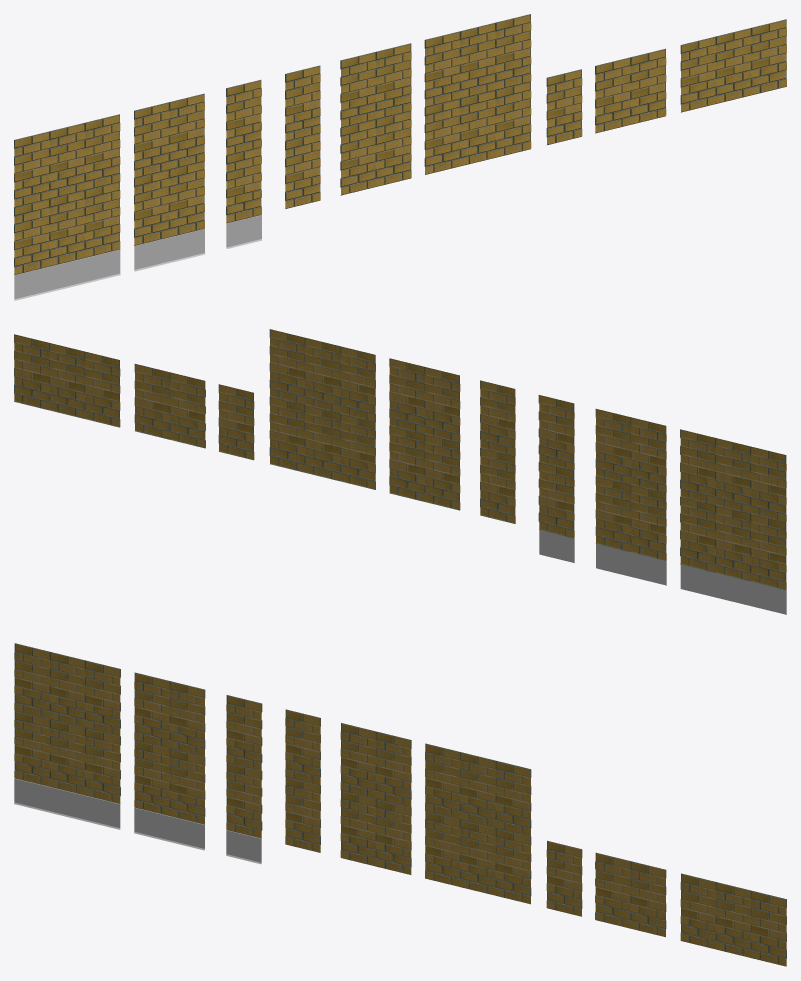
File: ParedeShrine.fbx
3 views of the same model, one above another, from view 1: azimuth 30°, elevation 25°; view 2: azimuth 150°, elevation 25°; view 3: azimuth 330°, elevation 25° (orthographic).
Parts seen in each view (by area): view 1: Plano.005, Plano.007, Plano.004, Plano.006, Plano.009, Plano.003, Plano.001, Plano.008, Plano.002; view 2: Plano.005, Plano.007, Plano.004, Plano.006, Plano.009, Plano.003, Plano.001, Plano.008, Plano.002; view 3: Plano.005, Plano.007, Plano.004, Plano.006, Plano.009, Plano.003, Plano.001, Plano.008, Plano.002.
Part boxes in pixels (box(x1,y1,x2,y2)): Plano.005: box(14, 114, 120, 300); Plano.007: box(424, 14, 531, 174); Plano.004: box(134, 93, 205, 271); Plano.006: box(340, 43, 411, 195); Plano.009: box(680, 19, 786, 112); Plano.003: box(226, 80, 261, 248); Plano.001: box(285, 65, 320, 208); Plano.008: box(595, 48, 666, 133); Plano.002: box(546, 69, 582, 144); Plano.005: box(680, 429, 786, 614); Plano.007: box(269, 329, 375, 489); Plano.004: box(595, 409, 666, 585); Plano.006: box(389, 358, 460, 510); Plano.009: box(14, 334, 120, 427); Plano.003: box(538, 395, 574, 562); Plano.001: box(480, 380, 515, 523); Plano.008: box(134, 364, 205, 448); Plano.002: box(218, 384, 254, 460); Plano.005: box(14, 643, 120, 829); Plano.007: box(425, 743, 531, 904); Plano.004: box(134, 672, 205, 850); Plano.006: box(340, 723, 411, 874); Plano.009: box(680, 873, 786, 966); Plano.003: box(226, 695, 262, 864); Plano.001: box(285, 709, 320, 852); Plano.008: box(595, 852, 666, 937); Plano.002: box(546, 840, 582, 916).
Size of the model in its own units: 63892 by 12676 by 109.
